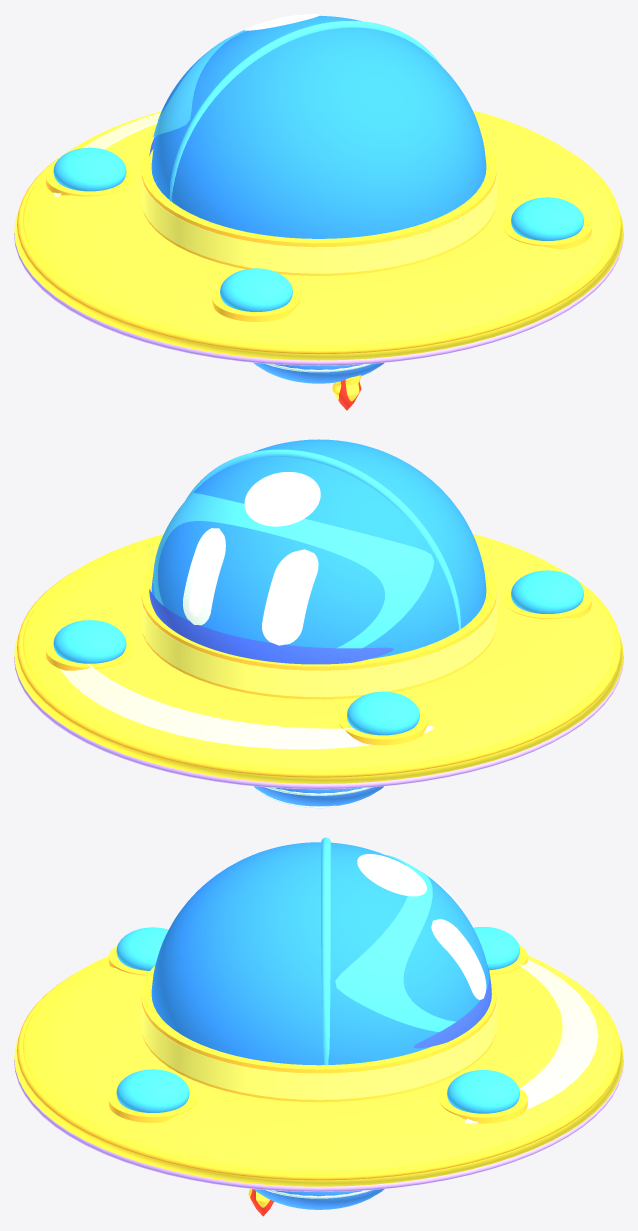
Rendered from ship-01.glb.
The picture shows the model from 3 angles, top to bottom: view 1: azimuth 30°, elevation 25°; view 2: azimuth 150°, elevation 25°; view 3: azimuth 270°, elevation 25°; orthographic projection.
Visible parts, largest first — view 1: 아담스키 C, engine-flame; view 2: 아담스키 C; view 3: 아담스키 C.
Boxes of the visible parts, x1,y1,x2,y2 form: 아담스키 C: (14,14,623,383); engine-flame: (332,375,361,410); 아담스키 C: (14,439,623,808); 아담스키 C: (14,837,623,1209).
Bounding box in the file's own units: 27 × 17.71 × 27.
